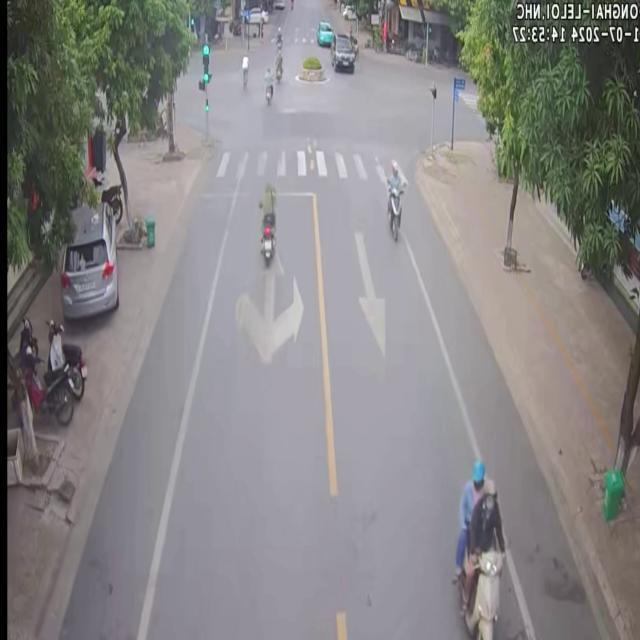car: (58, 200, 117, 318), (329, 31, 353, 70), (314, 18, 332, 44)
green_light: (201, 43, 211, 92)
motobike: (458, 476, 503, 637), (18, 345, 72, 422), (46, 318, 86, 398), (383, 158, 404, 238), (259, 211, 273, 265), (262, 69, 272, 102)
stop_line: (193, 186, 314, 198)
